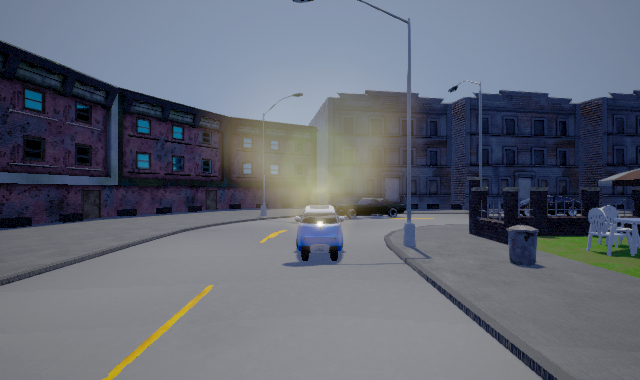vehicle: (294, 204, 343, 265), (333, 196, 405, 217)
